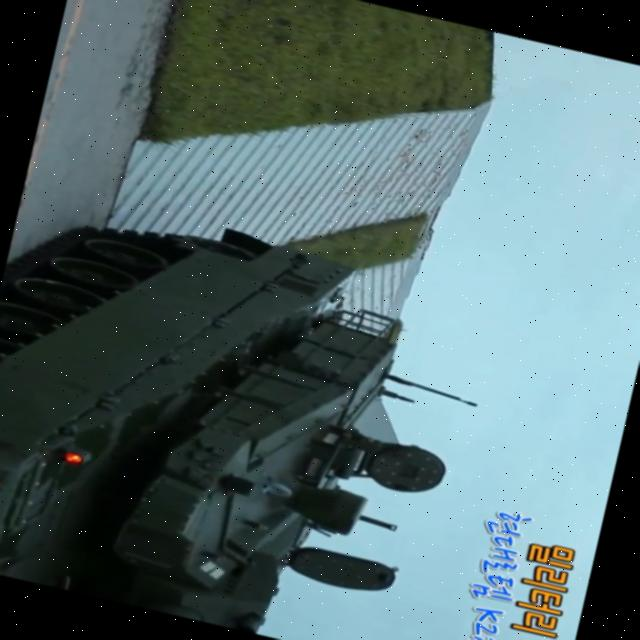korea tank: (0, 173, 507, 640)
